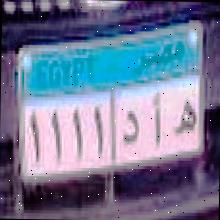1: (88, 100, 106, 161), (68, 106, 86, 166), (26, 107, 42, 166), (47, 108, 64, 161)
alif: (146, 89, 166, 150)
daal: (117, 105, 139, 152)
haa: (171, 93, 198, 142)
